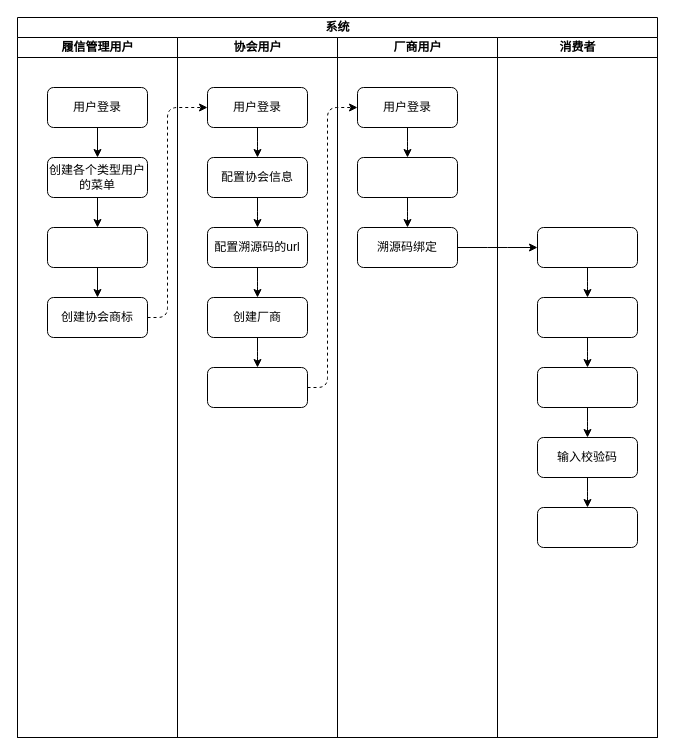
Some shapes in this 675 by 755 pixel diagram are drawn without their labels. Each missing label, with the centre of its shape:
"创建协会用户" belongs at pixel 97 247.
"创建模板" belongs at pixel 407 177.
"刮开涂层" belongs at pixel 587 387.
"扫描溯源码" belongs at pixel 587 247.
"查验结果" belongs at pixel 587 527.
"生成溯源码 (需选择厂商)" belongs at pixel 257 387.
"跳转页面" belongs at pixel 587 317.
